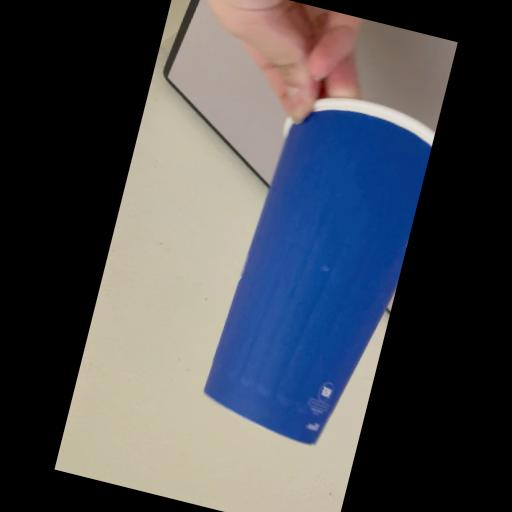lp_paper_cup: (196, 82, 438, 454)
